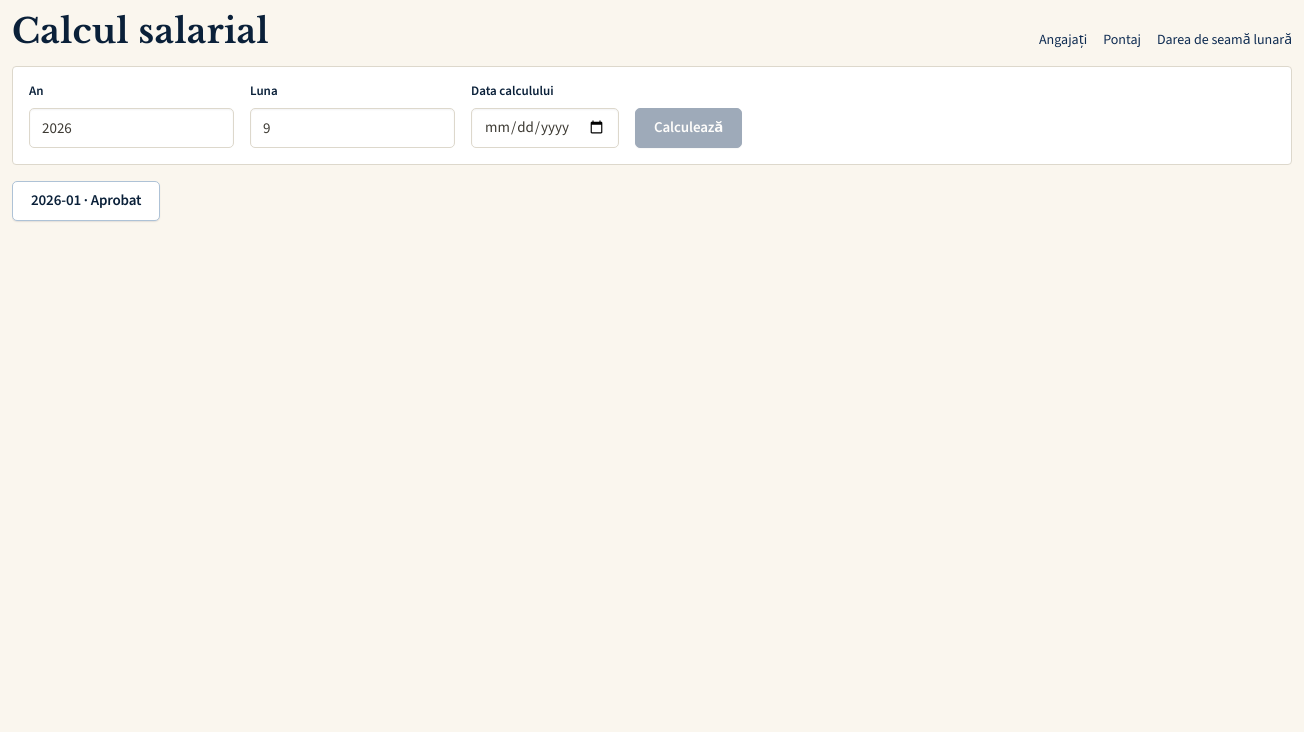
Test case: ecranele › o lună aprobată spune că e contabilizată și duce la registru
Click the button "2026-01 · Aprobat" at (86, 201), box [12,181,160,221]
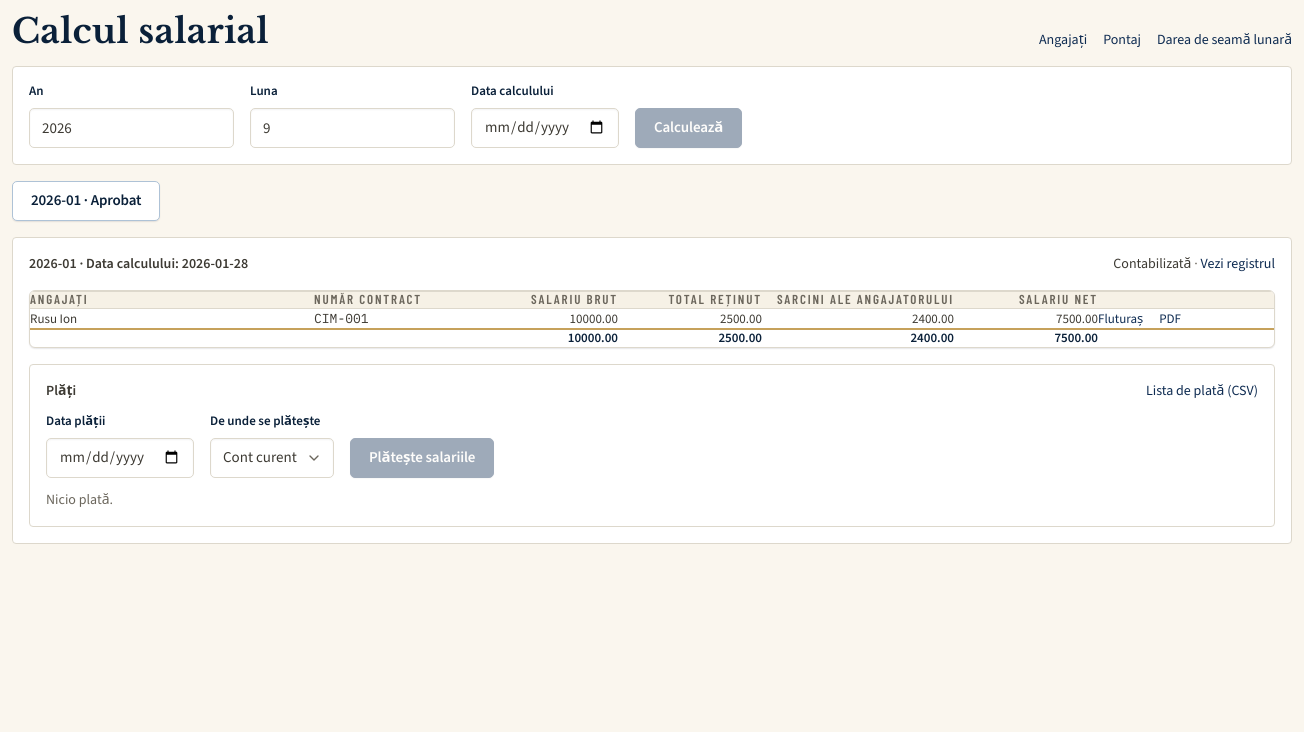
Check: the text "Contabilizată" is shown, box [1113,254,1191,273]
Check: the text "Rusu Ion" is shown, box [30,308,314,329]
